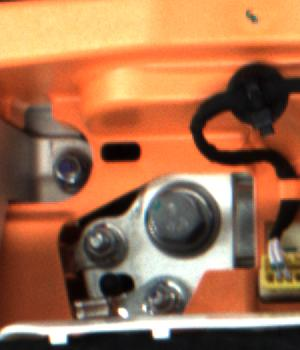nut_b: (143, 174, 225, 261)
